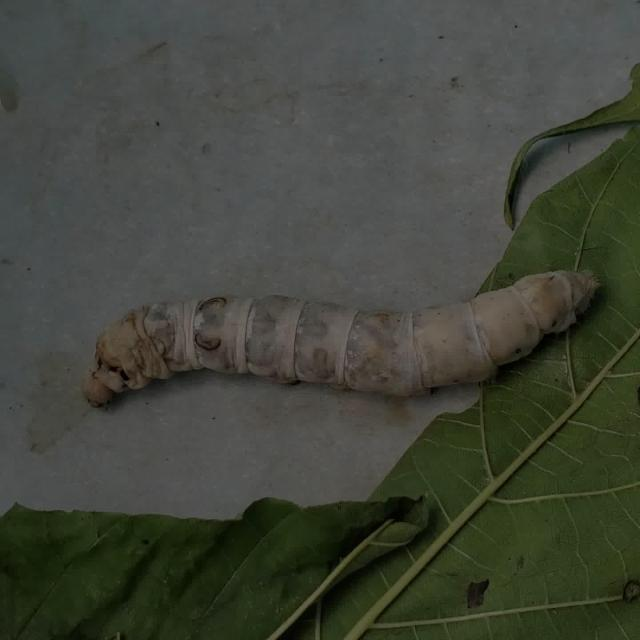Grasserie: (64, 239, 599, 433)
